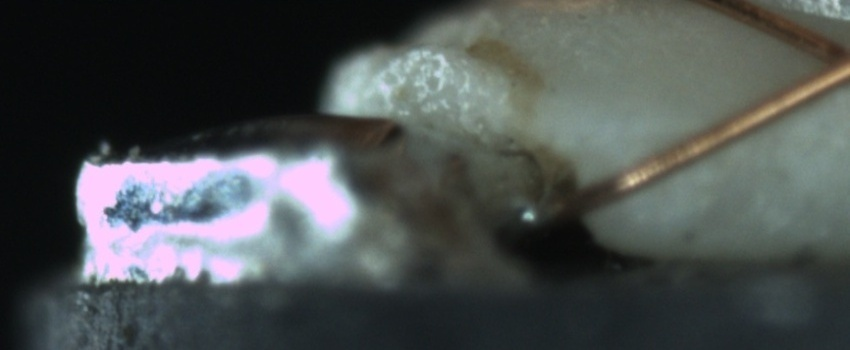CL: (796, 15, 849, 104)
